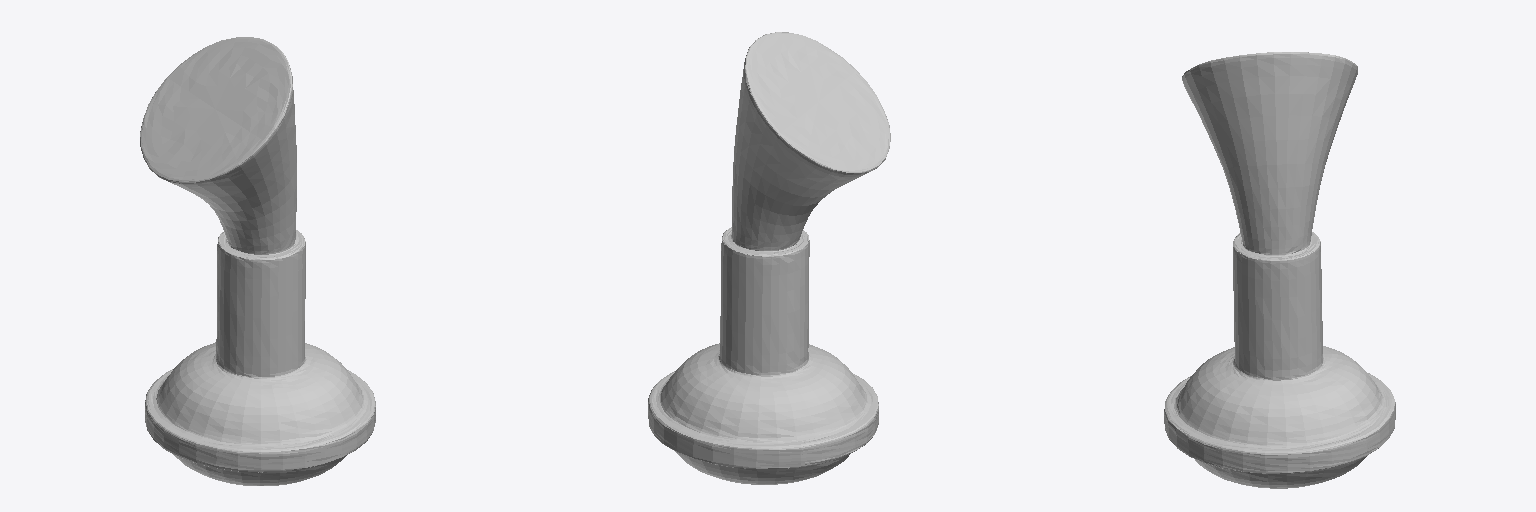
Rendered from cavalier_hat_top.obj.
3 renders of one model, left to right at view 1: azimuth 30°, elevation 25°; view 2: azimuth 150°, elevation 25°; view 3: azimuth 270°, elevation 25°, orthographic.
Parts seen in each view (by area): view 1: 15548_French_Horseman_v1; view 2: 15548_French_Horseman_v1; view 3: 15548_French_Horseman_v1.
Boxes of the visible parts, <box> form: 15548_French_Horseman_v1: <box>140,37,375,485</box>; 15548_French_Horseman_v1: <box>648,32,890,484</box>; 15548_French_Horseman_v1: <box>1164,52,1395,488</box>.
Size of the model in its own units: 0.1622 by 0.312 by 0.1553.